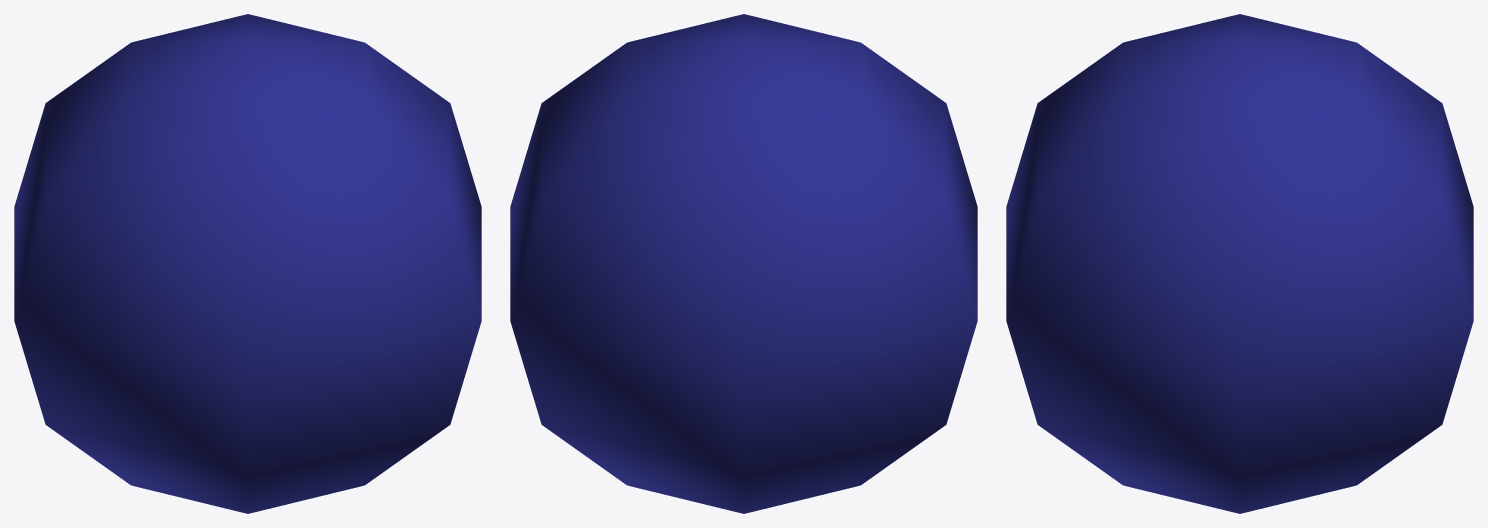
Rendered from MM_GiantGumball_03.fbx.
3 renders of one model, left to right at view 1: azimuth 30°, elevation 25°; view 2: azimuth 150°, elevation 25°; view 3: azimuth 270°, elevation 25°, orthographic.
Visible parts, largest first — view 1: MM_GiantGumball_03; view 2: MM_GiantGumball_03; view 3: MM_GiantGumball_03.
Boxes of the visible parts, bbox=[...] form: MM_GiantGumball_03: bbox=[14, 14, 481, 513]; MM_GiantGumball_03: bbox=[510, 14, 977, 513]; MM_GiantGumball_03: bbox=[1006, 14, 1473, 513].
Size of the model in its own units: 62.64 by 57.07 by 54.24.
